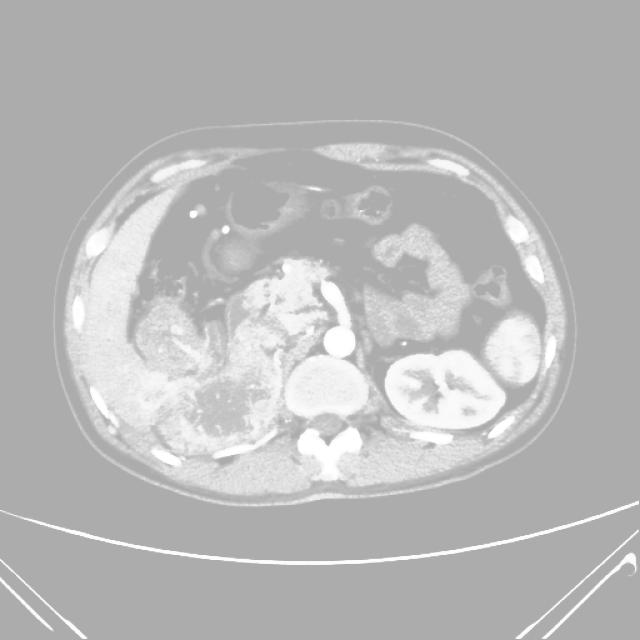TUMOR: (196, 209, 558, 385)
